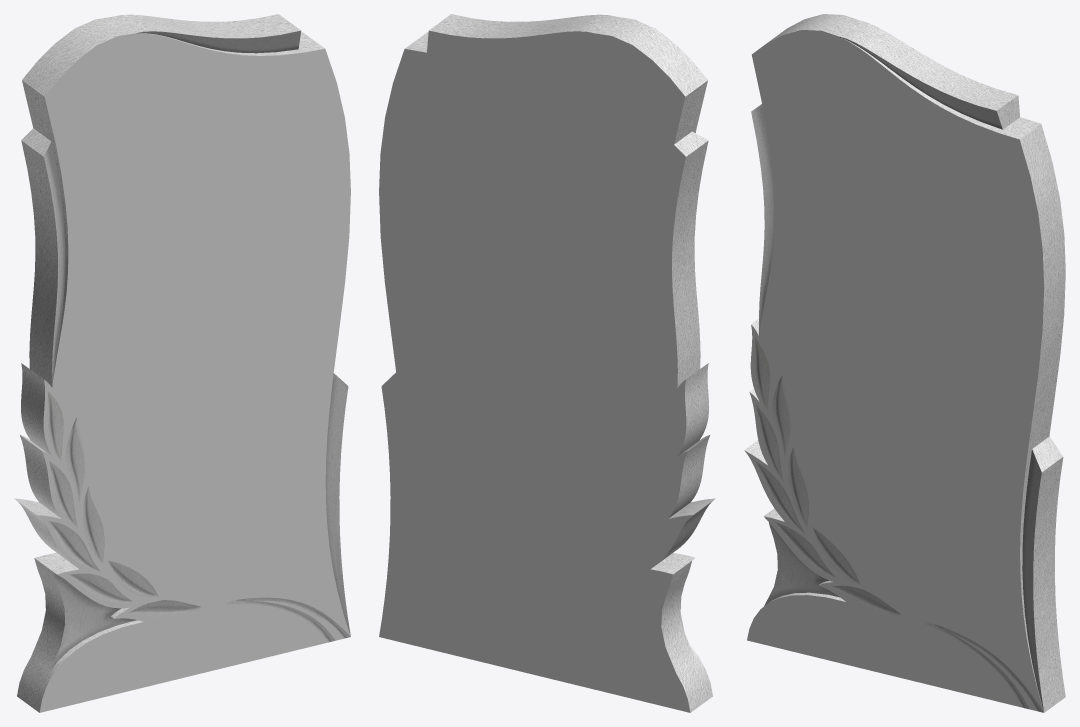
Rendered from cn0408706029_tkf.glb.
3 renders of one model, left to right at view 1: azimuth 30°, elevation 25°; view 2: azimuth 150°, elevation 25°; view 3: azimuth 330°, elevation 25°, orthographic. The views are drawn at different scales.
Visible parts, largest first — view 1: Pam-d03-069, Pam-d03-069_2_notexture; view 2: Pam-d03-069, Pam-d03-069_2_notexture; view 3: Pam-d03-069, Pam-d03-069_2_notexture.
Boxes of the visible parts, x1=… form: Pam-d03-069: x1=37, y1=33, x2=350, y2=712; Pam-d03-069_2_notexture: x1=14, y1=14, x2=350, y2=712; Pam-d03-069: x1=379, y1=30, x2=692, y2=712; Pam-d03-069_2_notexture: x1=405, y1=14, x2=715, y2=712; Pam-d03-069: x1=744, y1=30, x2=1044, y2=711; Pam-d03-069_2_notexture: x1=744, y1=14, x2=1065, y2=712.
Size of the model in its own units: 0.4 by 0.8 by 0.05.
1 material, 1 textured.
